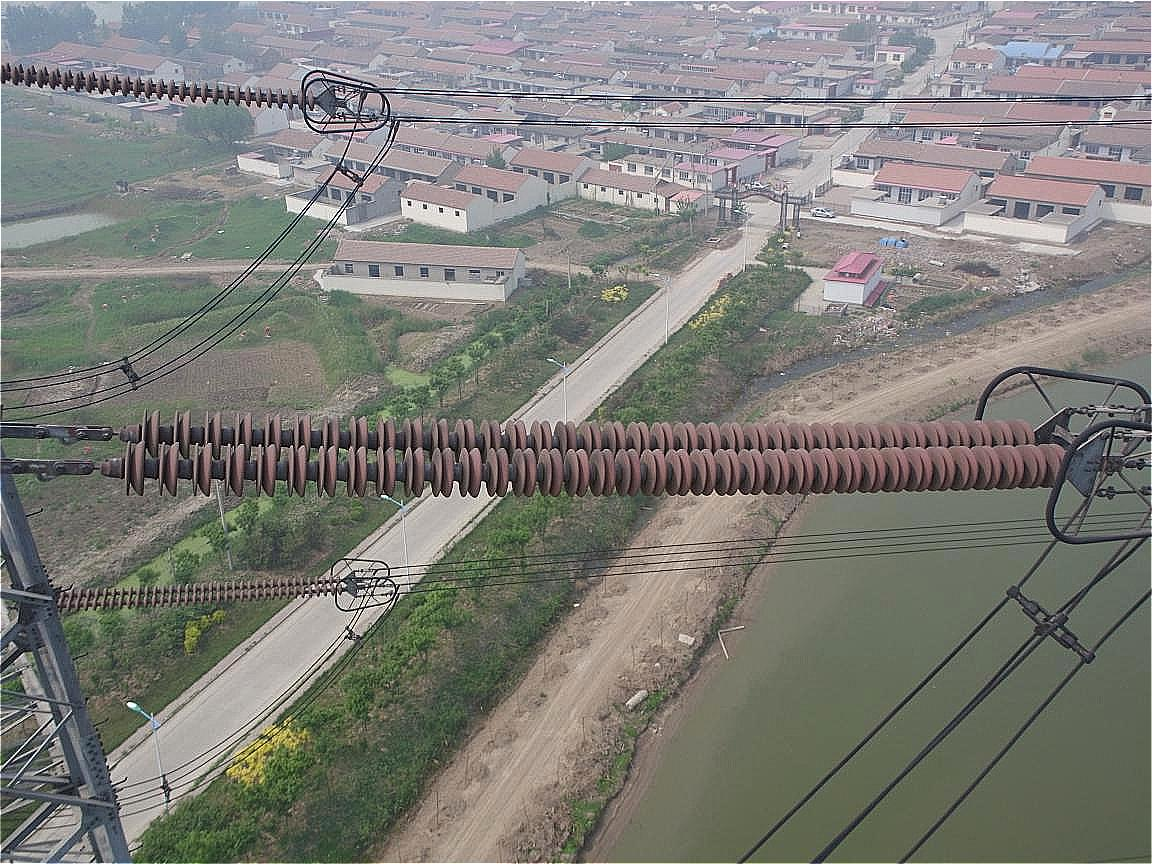insultor1: (1, 35, 344, 147), (1, 569, 365, 612)
insultor2: (103, 387, 1086, 521)
